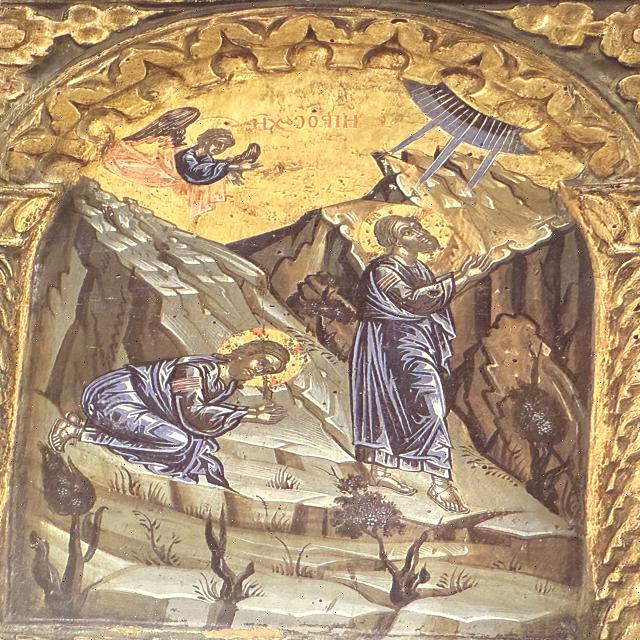angel: (106, 108, 316, 205)
aura: (214, 332, 312, 391), (358, 207, 451, 265), (184, 115, 256, 157)
saint: (324, 201, 496, 509), (48, 323, 318, 477)
wing: (112, 106, 207, 152), (221, 147, 272, 173)
